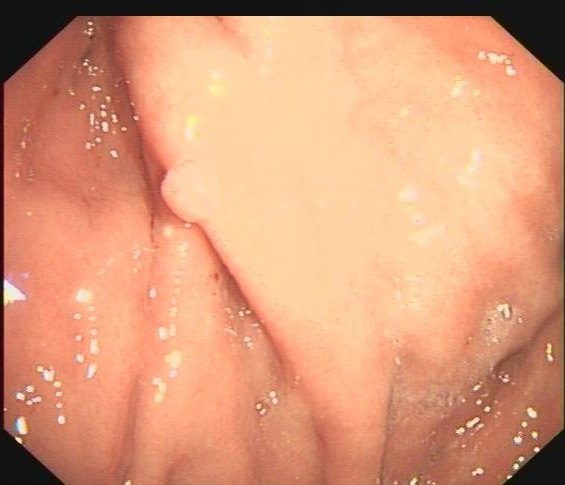Polyp: (159, 159, 222, 226)
